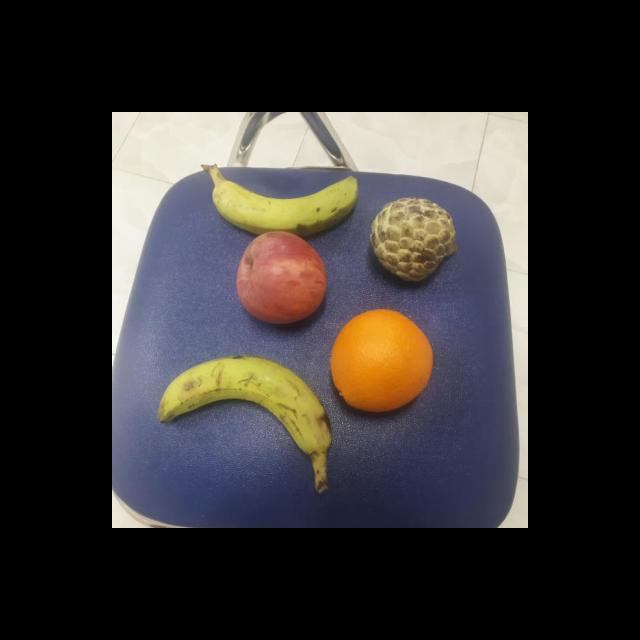Sakya fruit: (366, 195, 456, 284)
apple: (233, 230, 329, 324)
banana: (156, 353, 335, 458), (208, 169, 366, 237)
orange: (328, 308, 436, 413)
